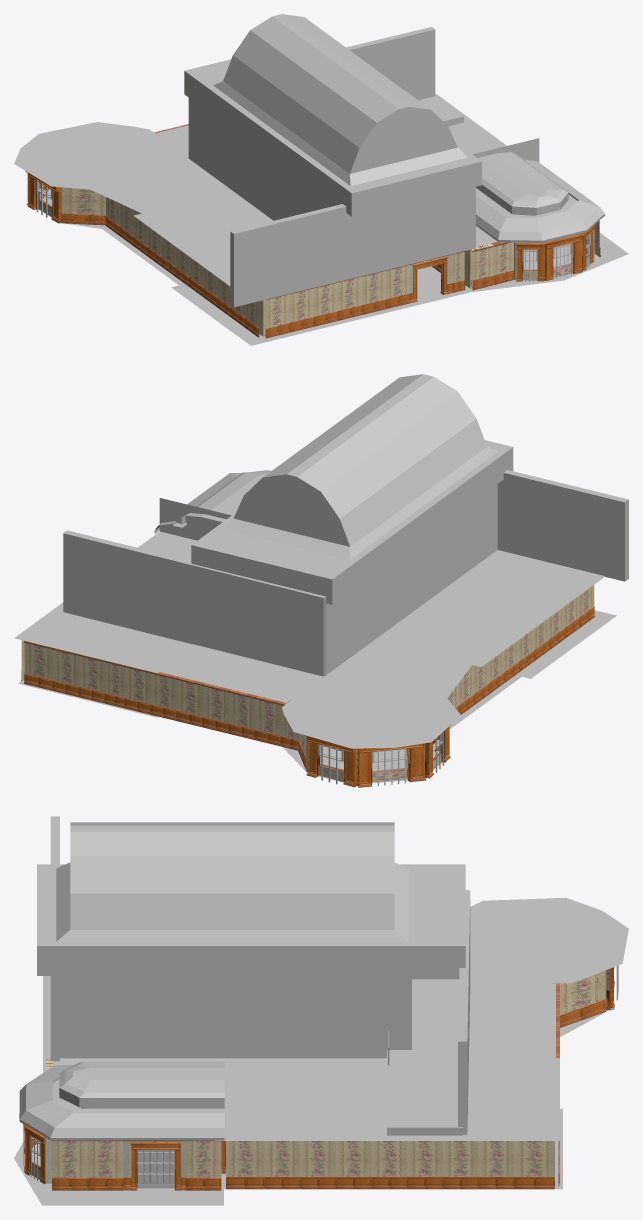
The model's file is House001.fbx.
3 renders of one model, top to bottom at view 1: azimuth 30°, elevation 25°; view 2: azimuth 150°, elevation 25°; view 3: azimuth 270°, elevation 25°, orthographic. The views are drawn at different scales.
Visible parts, largest first — view 1: pCube448; view 2: pCube448; view 3: pCube448.
Part boxes in pixels (x1=…): pCube448: x1=14, y1=14, x2=628, y2=345; pCube448: x1=14, y1=374, x2=628, y2=787; pCube448: x1=14, y1=816, x2=628, y2=1205.
Size of the model in its own units: 68 by 31.48 by 68.97.
